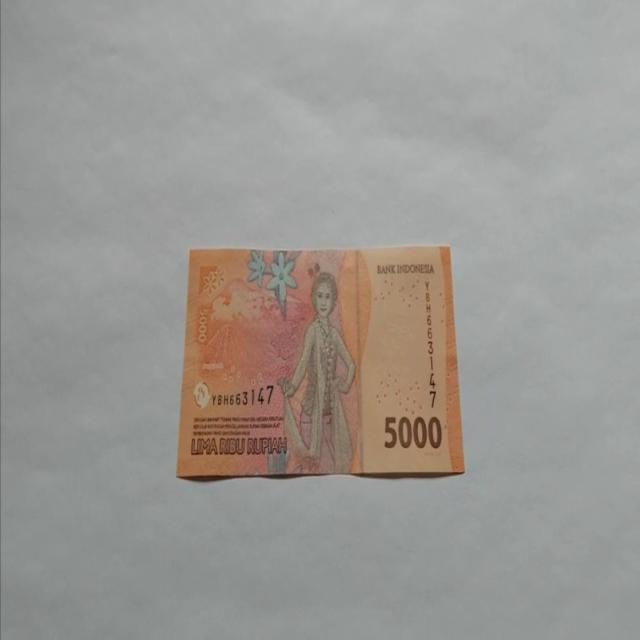lima ribu rupiah: (175, 244, 465, 481), (276, 271, 356, 474)
